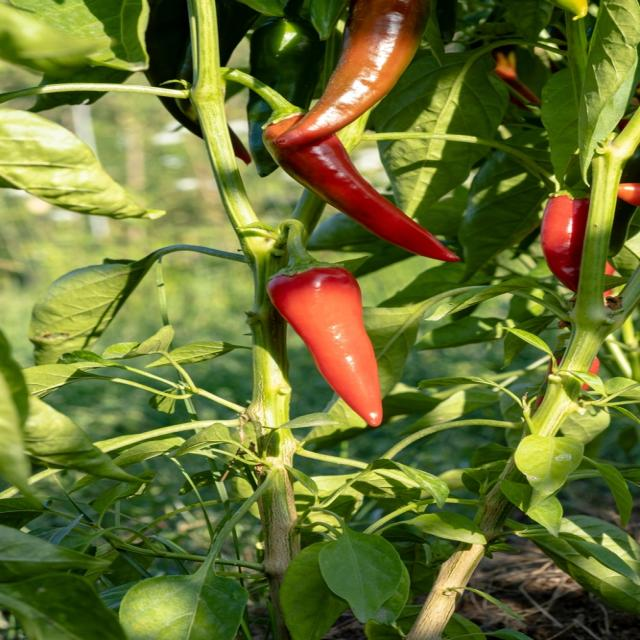Ripe: (264, 0, 457, 261), (268, 262, 382, 425), (540, 191, 590, 291)
